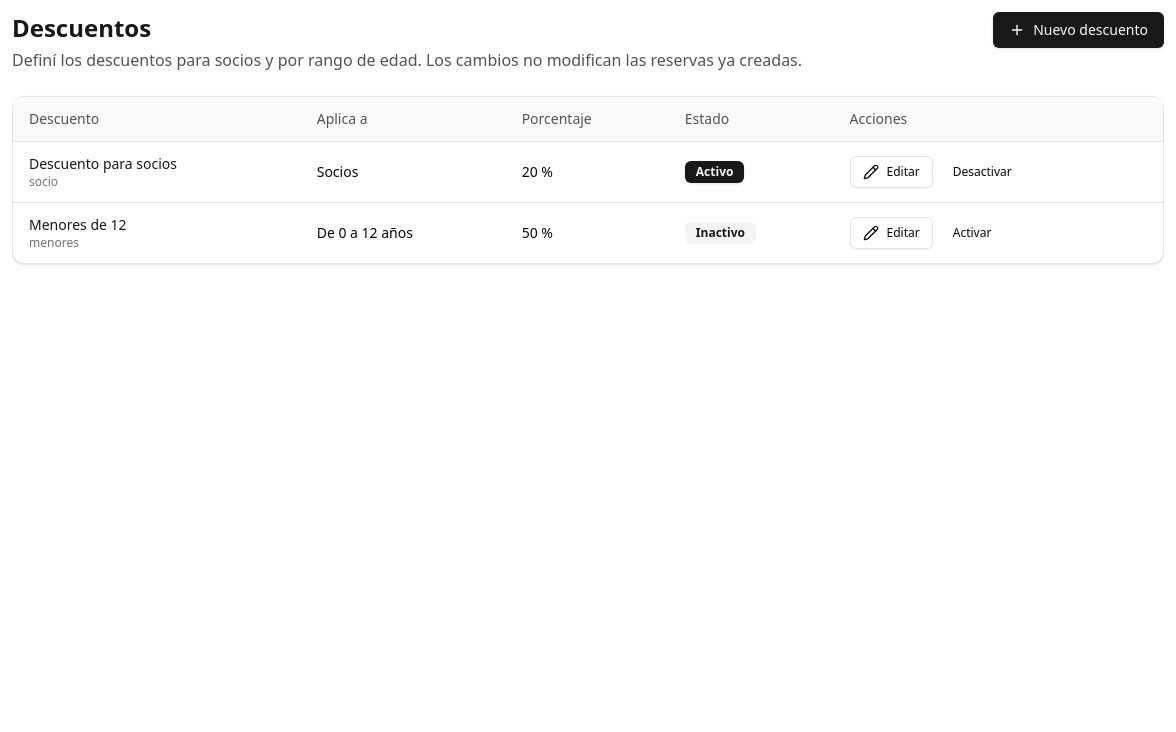
Test case: Pantalla de descuentos (Issue 14.2) › edita un descuento sin permitir cambiar su código ni a quién aplica
Expected: the text "Menores de 12" is shown, [29, 215, 127, 234]
Click the button with aria-label "Editar Menores de 12" at (891, 233), box [850, 217, 933, 249]
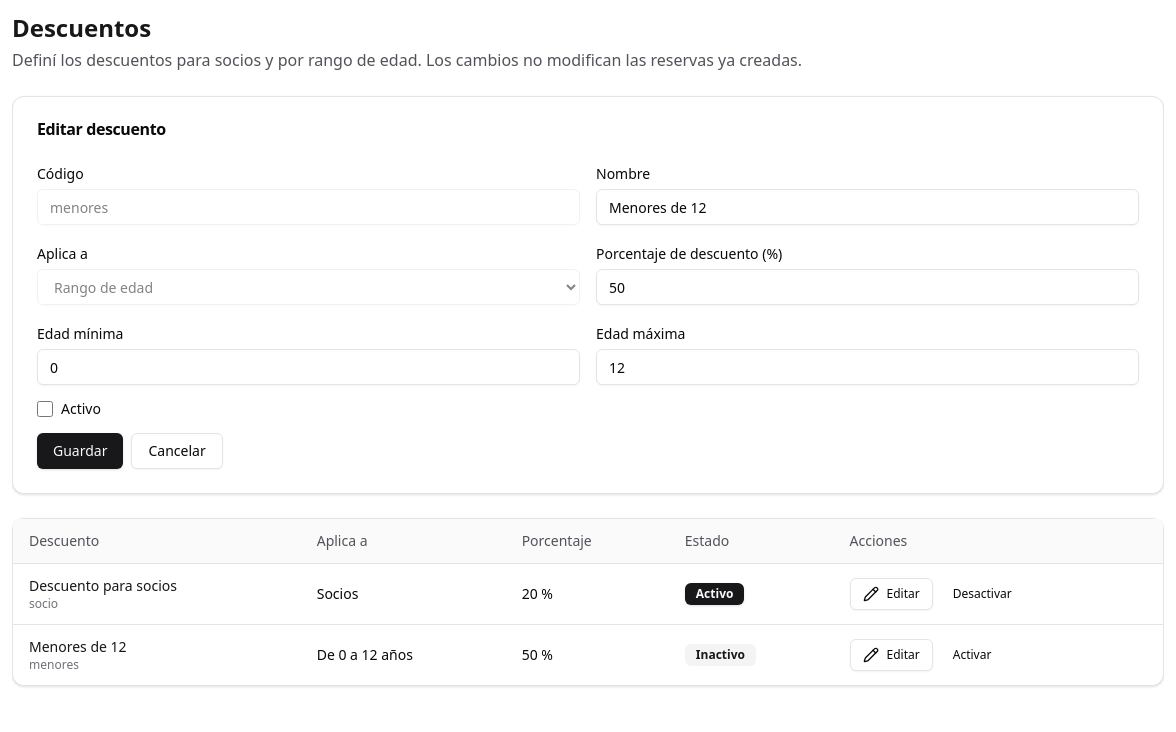
Result: the field labelled "Código" holds "menores" at [37, 189, 580, 225]
Result: the field labelled "Código" is disabled at [37, 189, 580, 225]
Result: the dropdown labelled "Aplica a" is disabled at [37, 269, 580, 305]
Replace the text in the field labelled "Porcentaje de descuento (%)" with "45" at (868, 287), box [596, 269, 1139, 305]
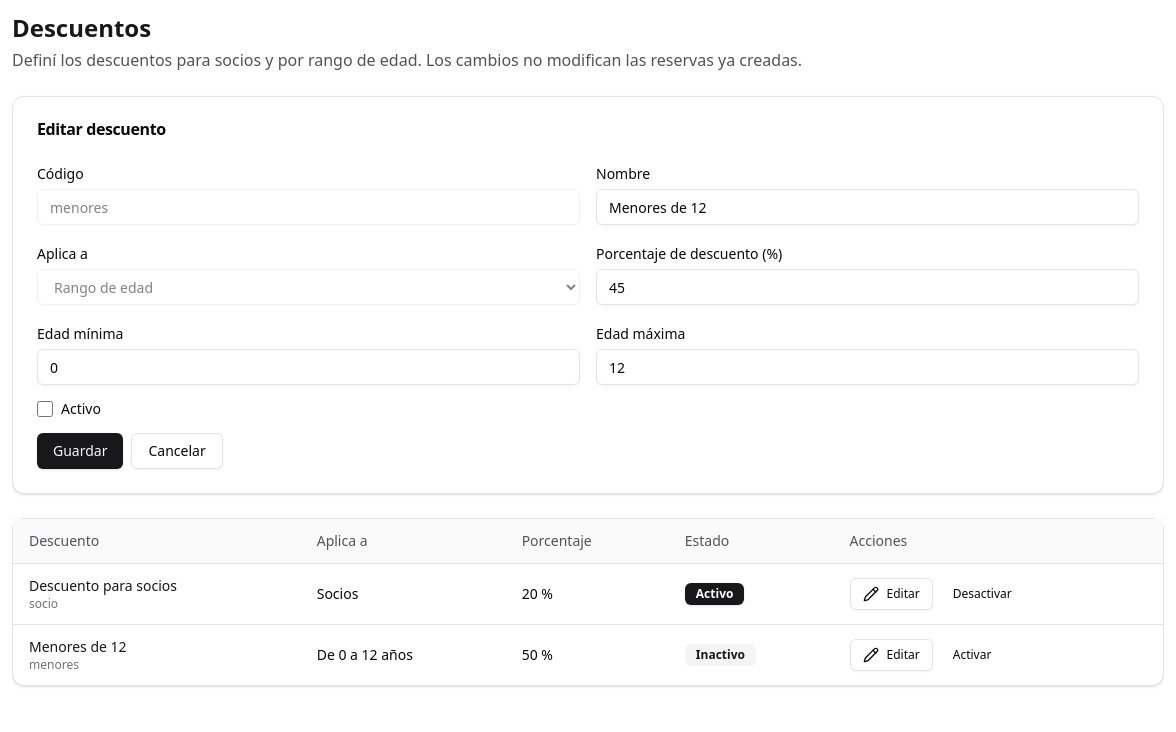
Replace the text in the field labelled "Edad máxima" with "14" at (868, 367), box [596, 349, 1139, 385]
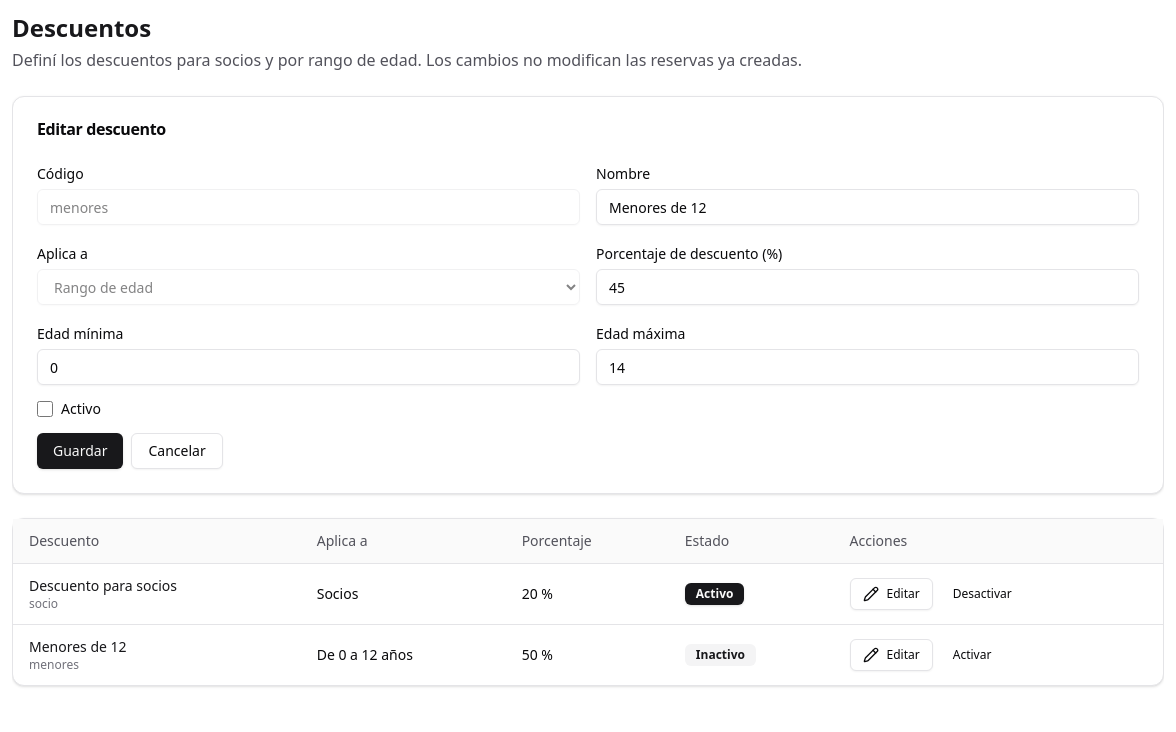
Click the button "Guardar" at (80, 451), box [37, 433, 124, 469]
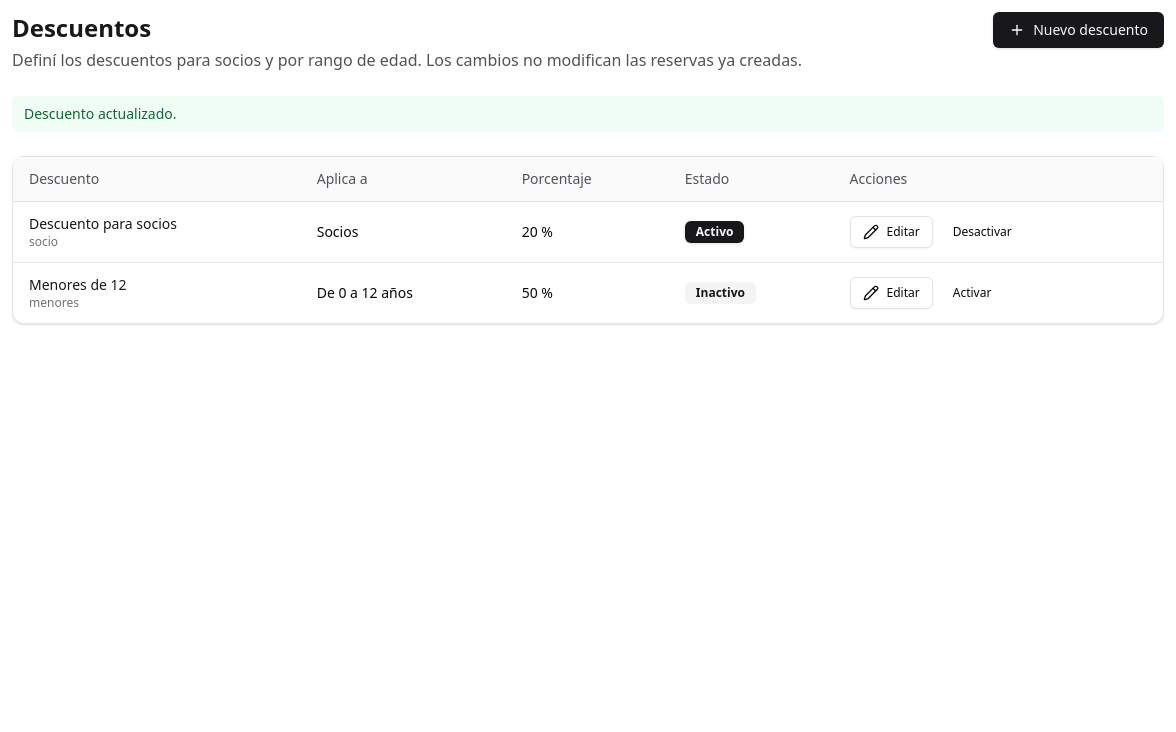
Result: the text "Descuento actualizado." is shown at [12, 96, 1164, 132]
